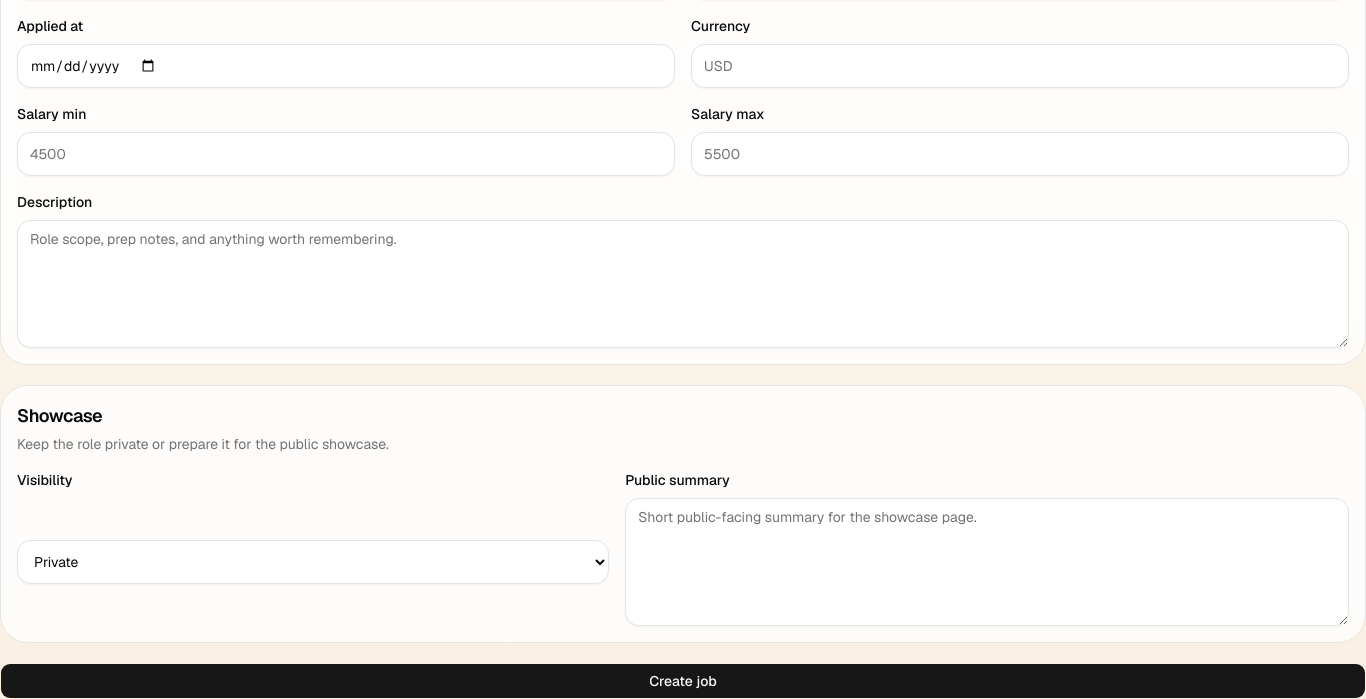
it: JobForm › shows visible feedback when client-side validation blocks submit
(page scrolled)
Click the button "Create job" at (683, 681), box [0,663,1365,698]
(page scrolled)
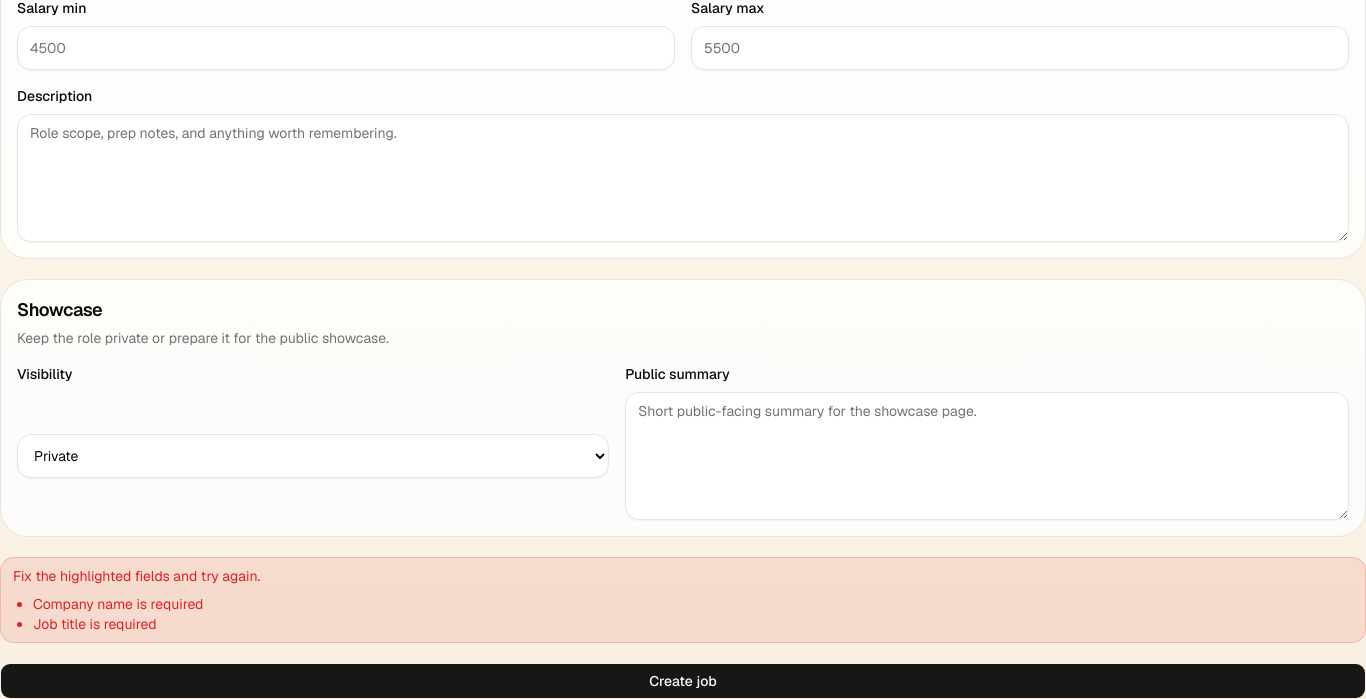
Expected: the text "Job title is required" is shown 2 times
Expected: the text "Company name is required" is shown 2 times
Expected: the message named "Form validation errors" is shown, [0,557,1365,643]
